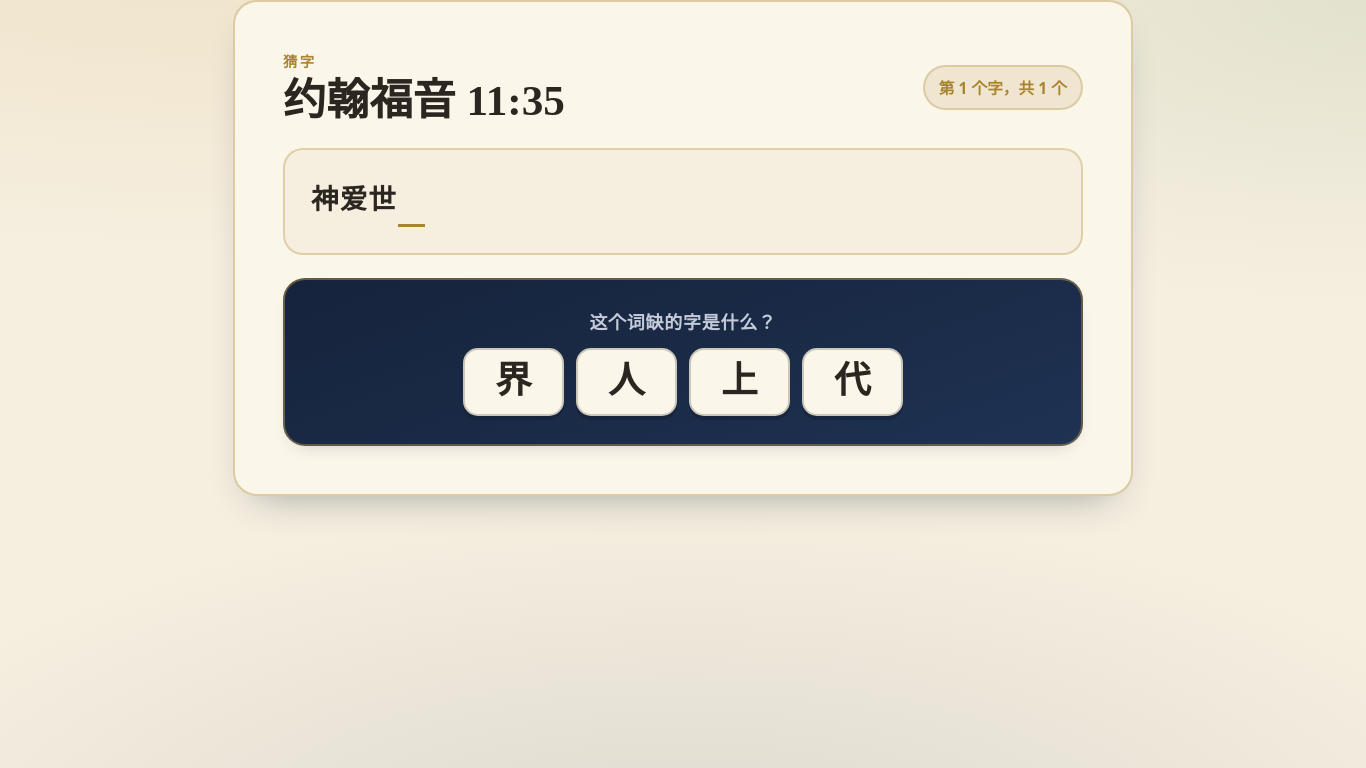
Guess the Letters screen › offers characters to pick for a Chinese word
The image size is (1366, 768).
Check: the text "猜字" is shown, box [283, 52, 316, 71]
Check: the text "第 1 个字，共 1 个" is shown, box [923, 65, 1083, 110]
What coordinates should you click on to do the following:
click the button named "选项：界"
I would click on:
 (514, 382)
Its box is [463, 348, 564, 416].
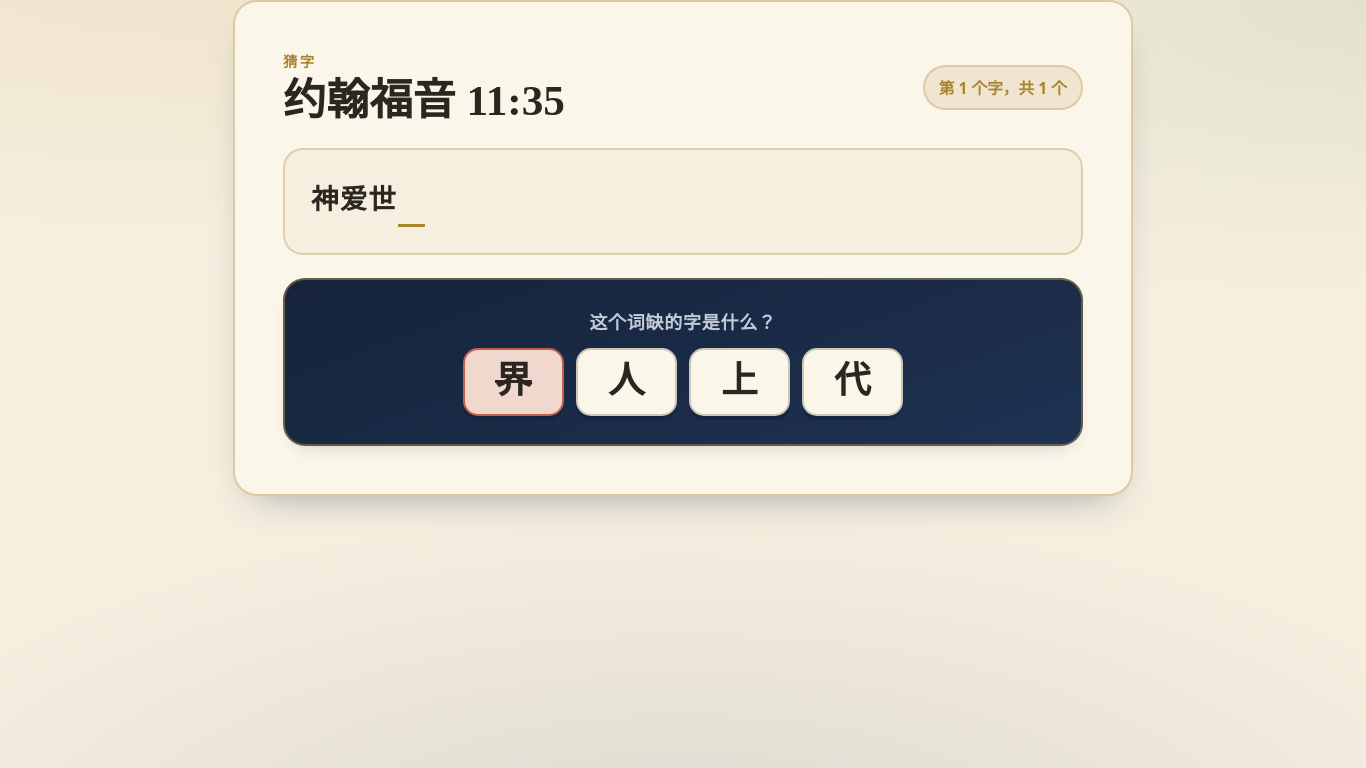
Check: the button named "选项：界" is disabled, box [463, 348, 564, 416]
What coordinates should you click on to do the following:
click the button named "选项：人"
I would click on:
 (626, 382)
Its box is [576, 348, 677, 416].
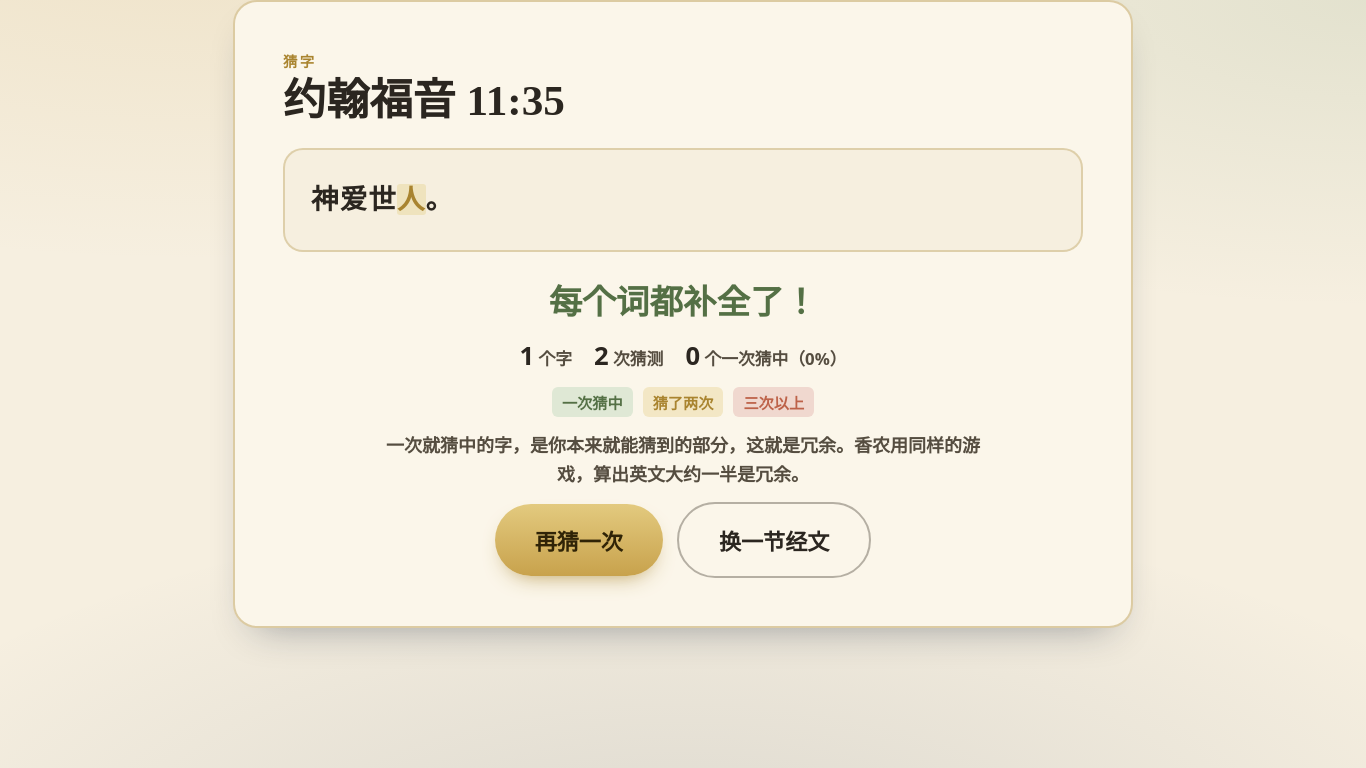
Check: the element with class "guess__verse" reads "神爱世人。", box [283, 148, 1083, 252]
Check: the message shows "每个词都补全了！", box [549, 278, 817, 324]
Check: the message shows "0 个一次猜中（0%）", box [386, 278, 980, 578]
